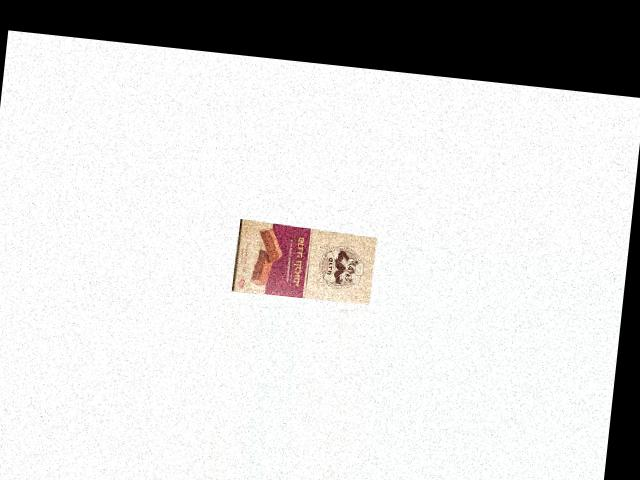chocolate: (231, 216, 378, 303)
